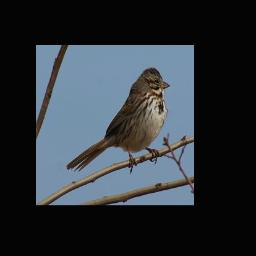Sparrow: (65, 66, 171, 173)
